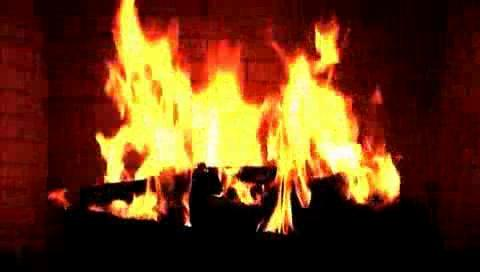fire: (98, 5, 410, 233)
